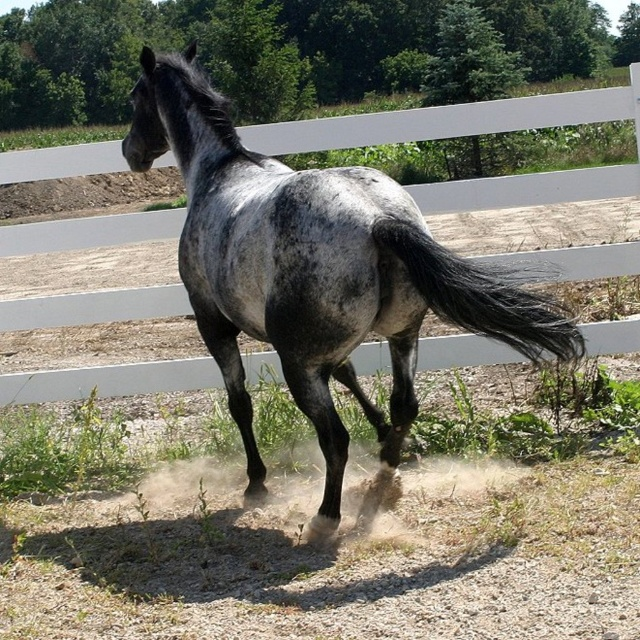Horse: (116, 44, 588, 547)
